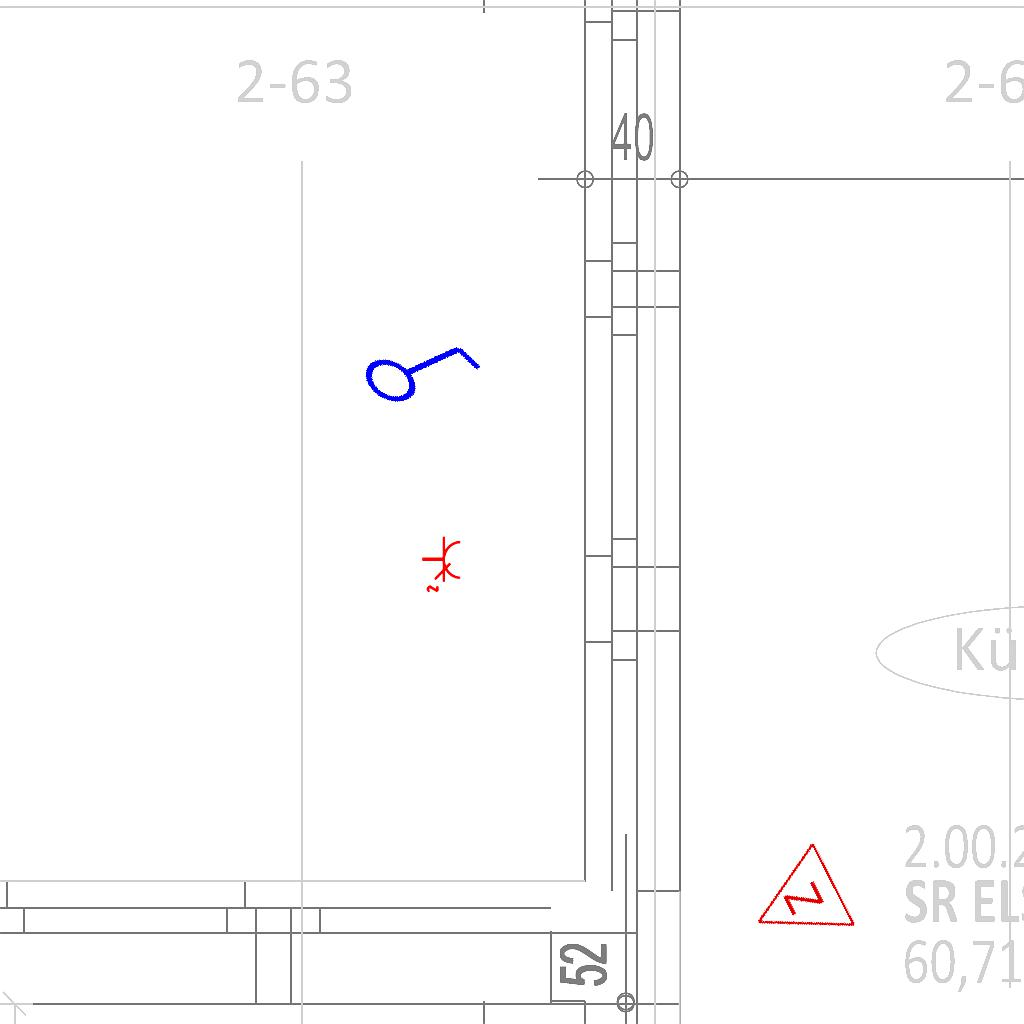Ausschalter: (346, 297, 492, 437)
Schukosteckdose_mehrfach: (419, 534, 463, 594)
Zimmersignalleuchte: (730, 837, 864, 971)
